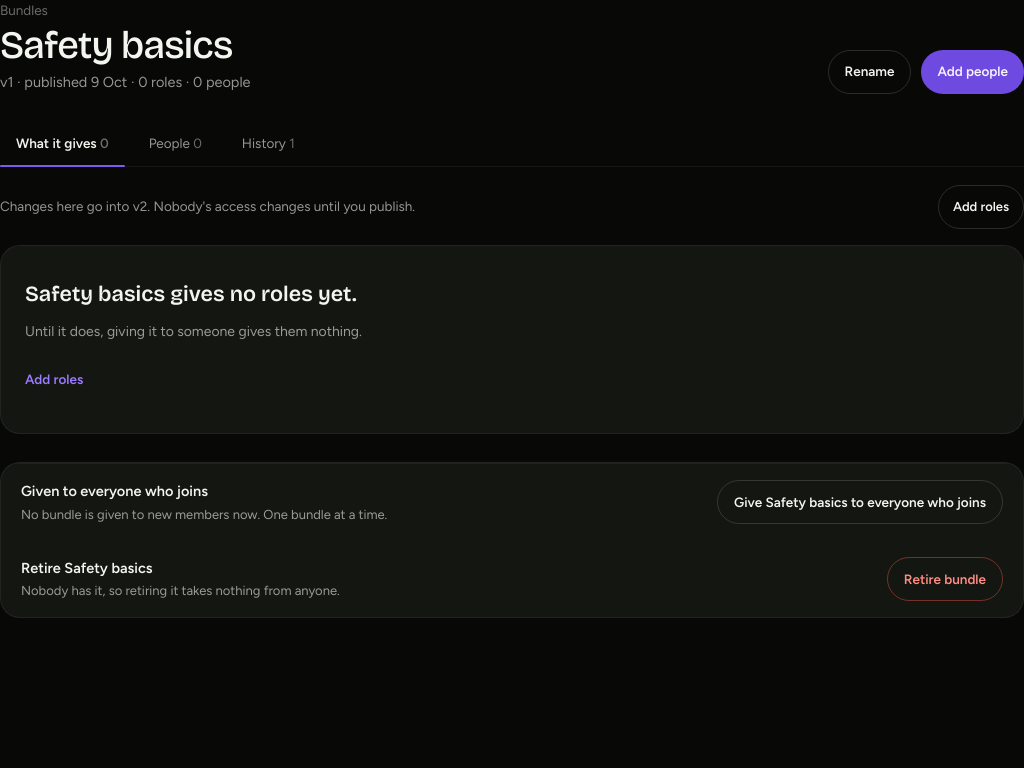
it: retiring, refused by the server › shows the refusal in the retire dialog
Step 1. Click the button "Retire bundle" → point(945, 579), box [887,557,1003,601]
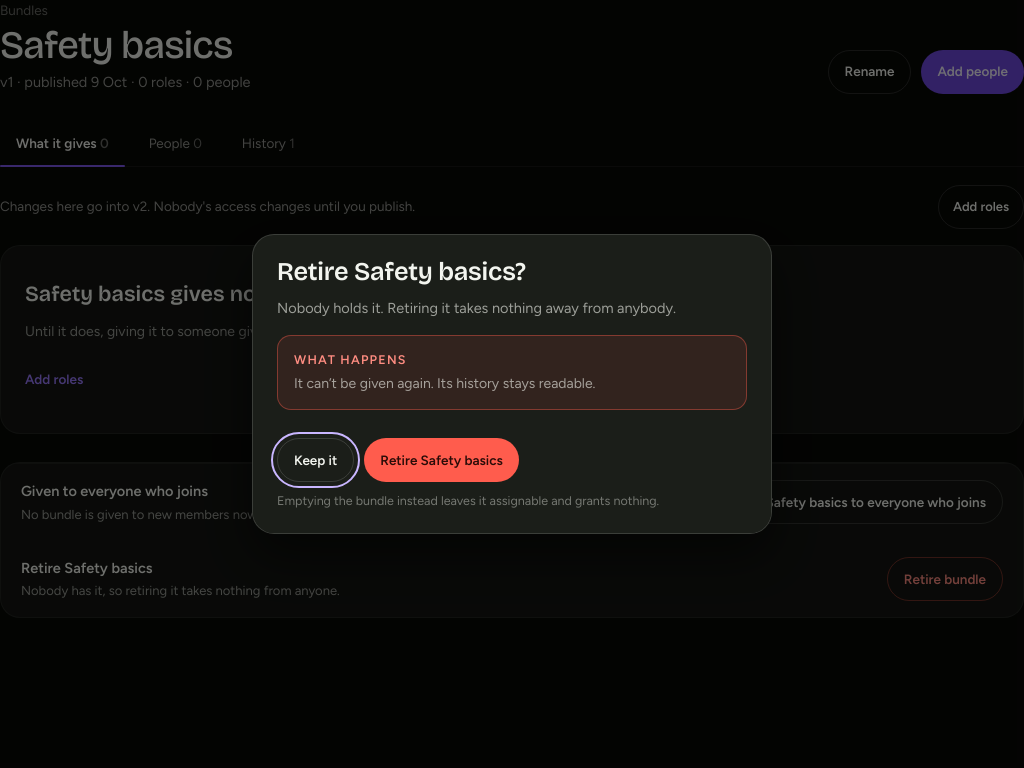
// Nobody holds it, so the confirm names the bundle rather than a revoke.
Step 2. Click the button "Retire Safety basics" → point(442, 460), box [364,438,519,482]
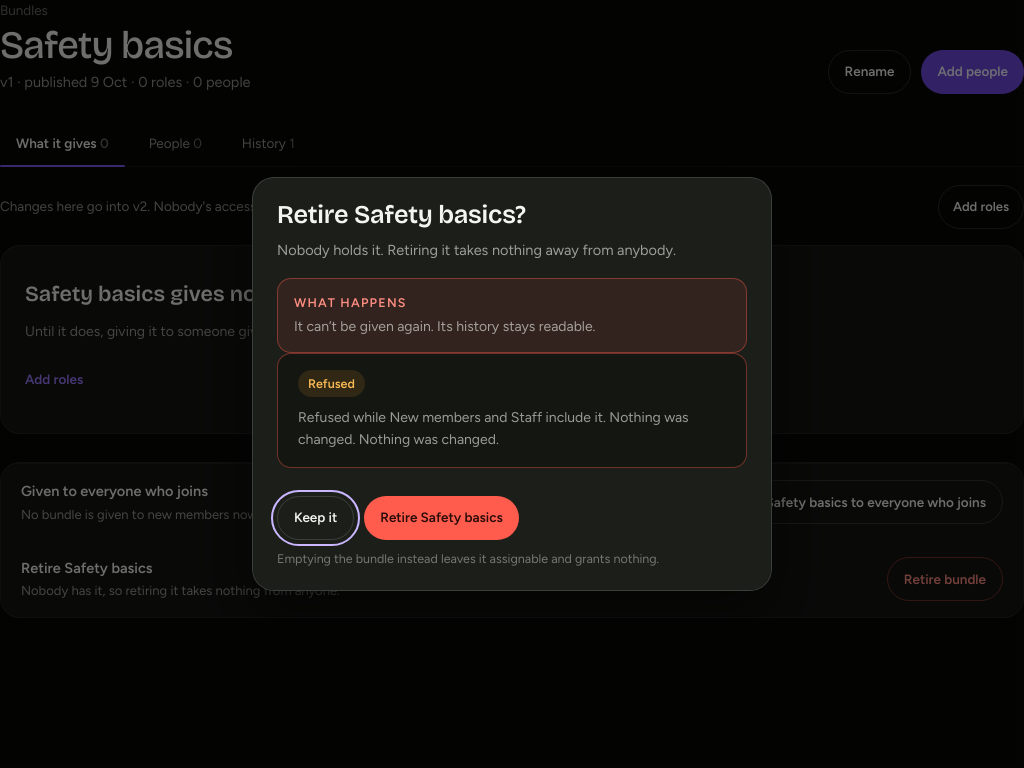
Result: the text "Refused while New members and Staff include it. Nothing was changed." is shown at [298,409,689,448]
